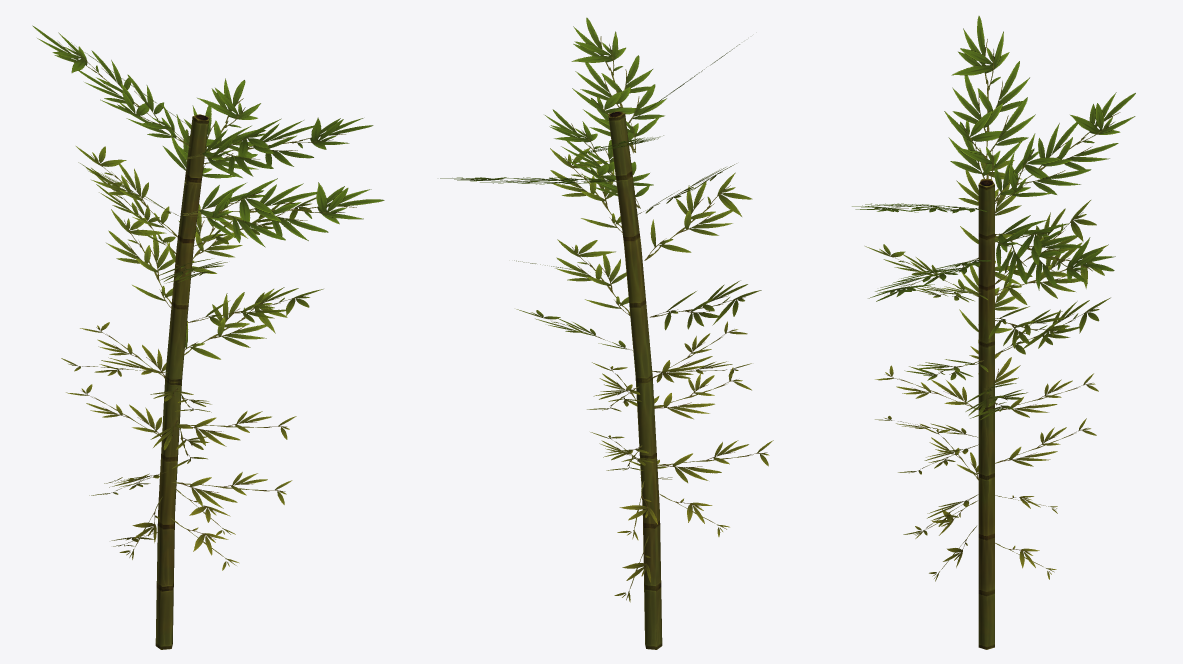
Rendered from bamboo_tree_medium.FBX.
The picture shows the model from 3 angles, left to right: view 1: azimuth 30°, elevation 25°; view 2: azimuth 150°, elevation 25°; view 3: azimuth 270°, elevation 25°; orthographic projection. The views are drawn at different scales.
Visible parts, largest first — view 1: bamboo_tree_medium; view 2: bamboo_tree_medium; view 3: bamboo_tree_medium.
Part boxes in pixels (x1,y1,x2,y2): bamboo_tree_medium: (32,25,384,649); bamboo_tree_medium: (440,17,773,649); bamboo_tree_medium: (852,16,1135,649).
Bounding box in the file's own units: 514 × 1020 × 560.
